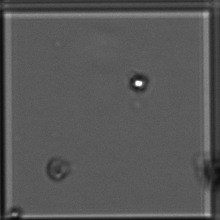Dead Cell: (47, 159, 72, 180)
Living Cell: (129, 73, 147, 91)
